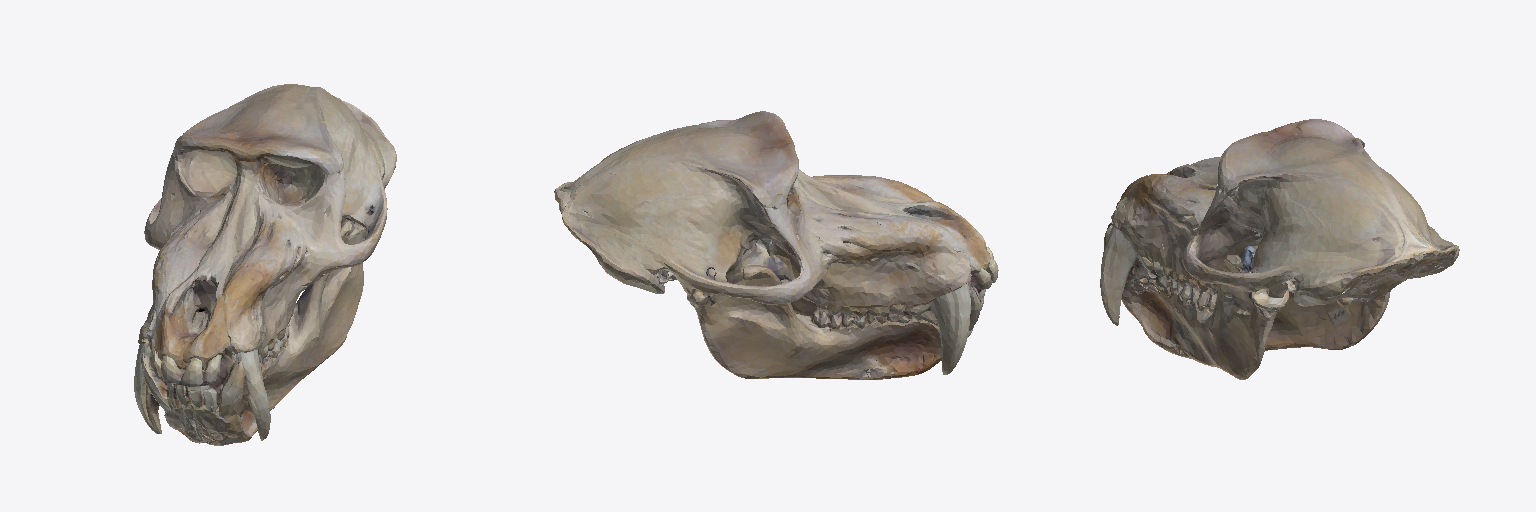
The picture shows the model from 3 angles: view 1: azimuth 30°, elevation 25°; view 2: azimuth 150°, elevation 25°; view 3: azimuth 270°, elevation 25°; orthographic projection.
Visible parts, largest first — view 1: mesh_0; view 2: mesh_0; view 3: mesh_0.
Part boxes in pixels (x1,y1,x2,y2): mesh_0: (134, 84, 396, 445); mesh_0: (554, 111, 998, 379); mesh_0: (1100, 119, 1459, 379).
Size of the model in its own units: 175 by 132 by 168.
1 materials, 1 textured.